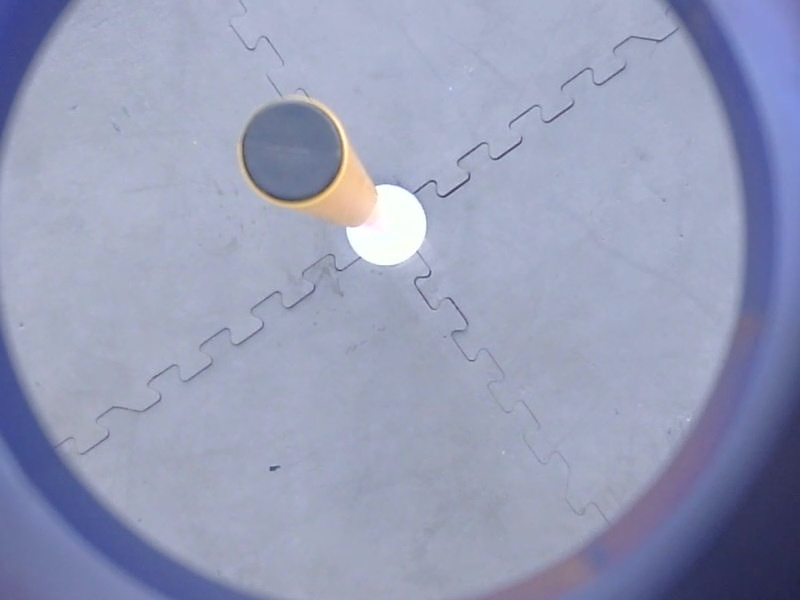tip: (231, 92, 354, 212)
